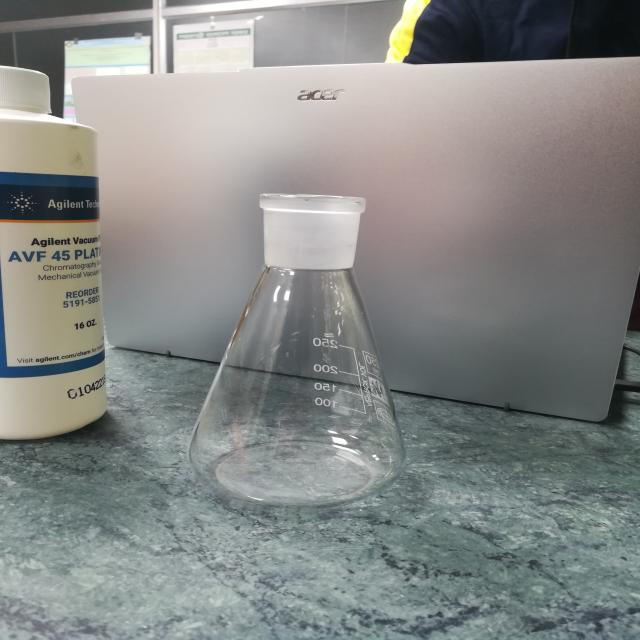Conical_Flask: (158, 150, 464, 541)
